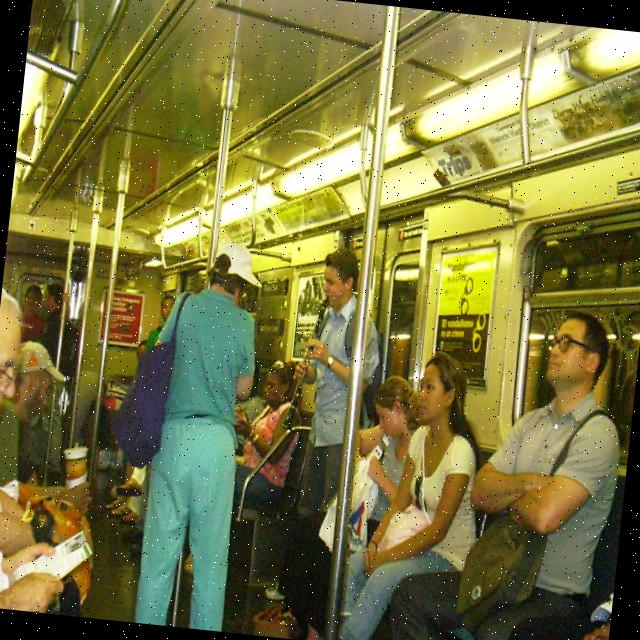clarinet: (280, 294, 330, 435)
